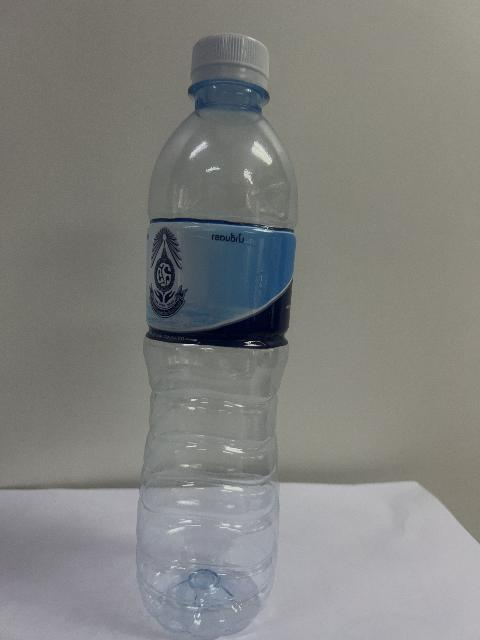bottle: (136, 34, 296, 638)
